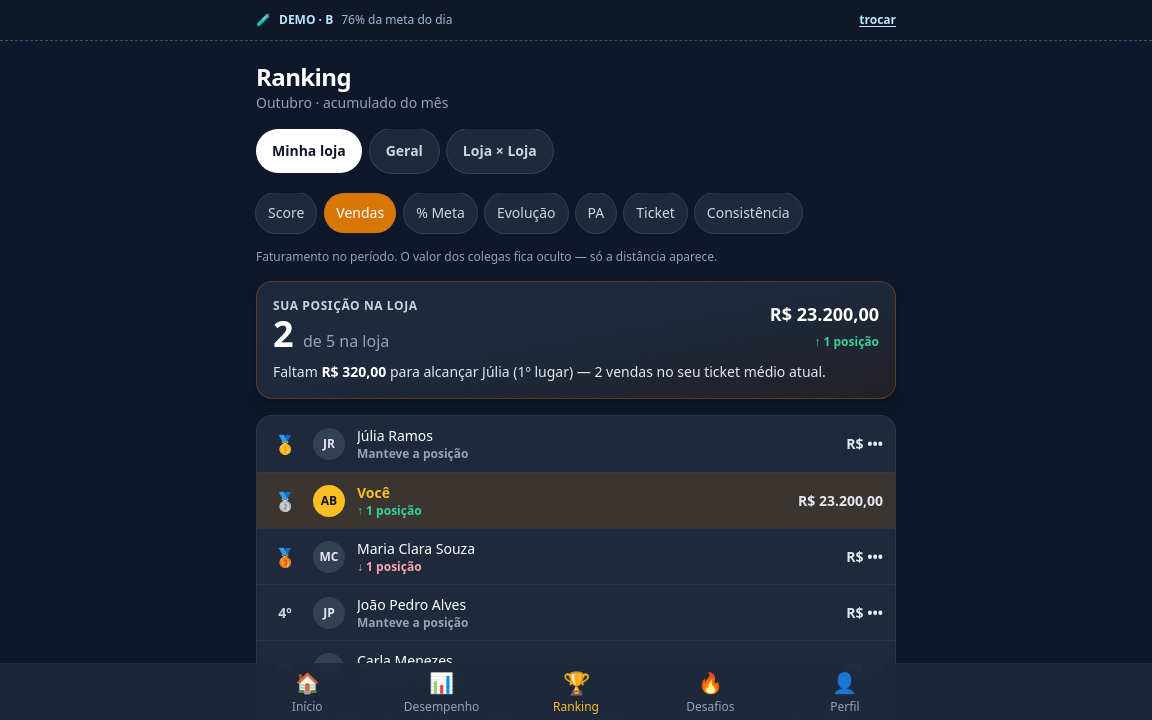
Test case: Fase 1 — vendedora › ranking de PA fala em PA, nunca em R$
Step 1. Click the button "PA" → [596, 213], box x1=576 y1=193 x2=616 y2=233
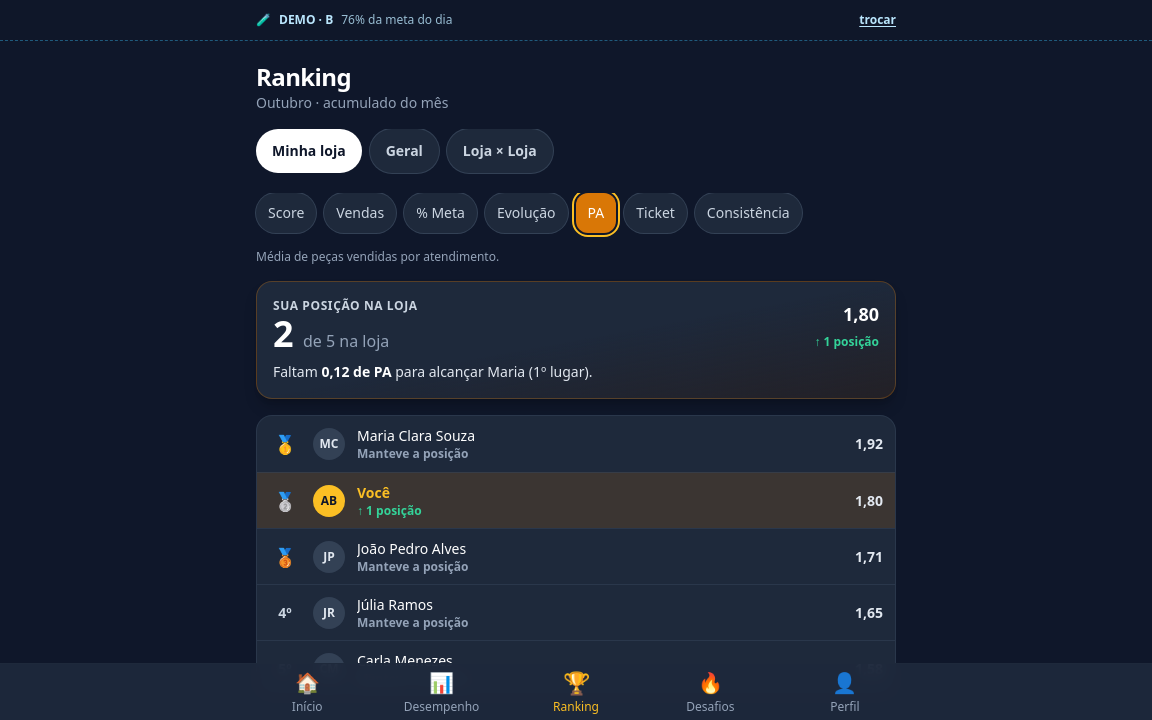
expect the element "Sua posição" shows "de PA para alcançar": met, box x1=256 y1=281 x2=896 y2=399
expect the element "Sua posição" no longer shows "R$": met, box x1=256 y1=281 x2=896 y2=399
